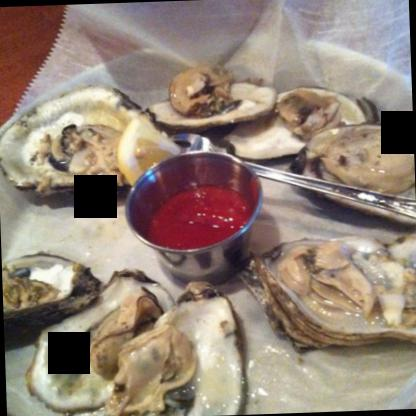oyster: (22, 270, 181, 413), (254, 230, 415, 366), (0, 83, 169, 201), (100, 290, 249, 415), (298, 124, 414, 200), (3, 251, 92, 328)
